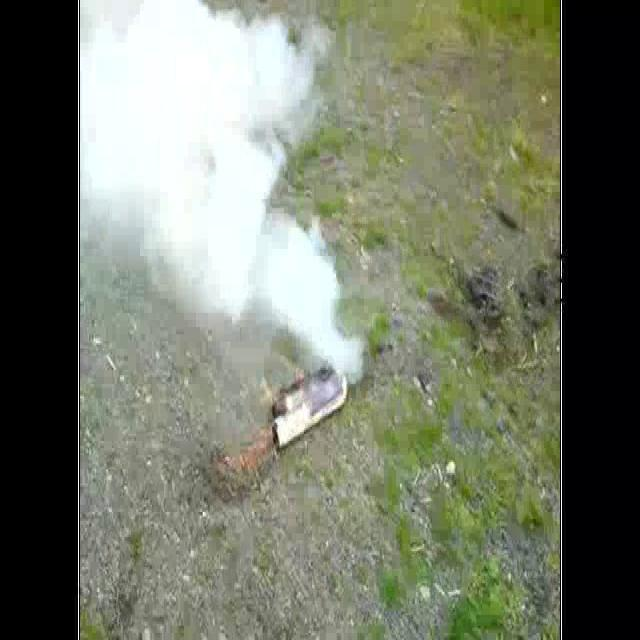Smoke: (78, 0, 370, 384)
